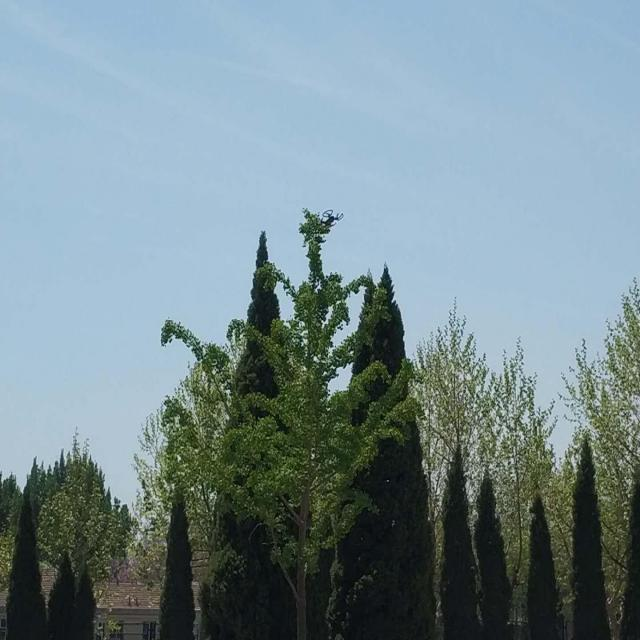UAV: (316, 209, 344, 228)
